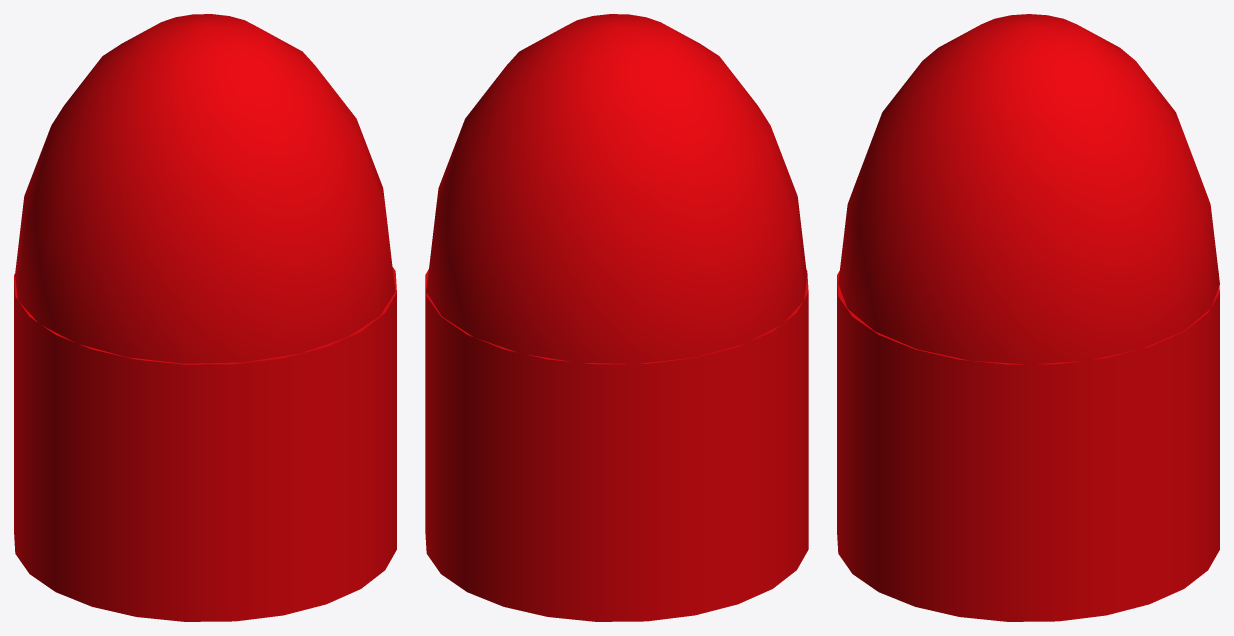
File: redBullet.dae
The picture shows the model from 3 angles, left to right: view 1: azimuth 30°, elevation 25°; view 2: azimuth 150°, elevation 25°; view 3: azimuth 270°, elevation 25°; orthographic projection.
Parts seen in each view (by area): view 1: SimpleSphere02, Component_1; view 2: SimpleSphere02, Component_1; view 3: SimpleSphere02, Component_1.
Boxes of the visible parts, left/top/right/bottom form: SimpleSphere02: left=15, top=14, right=395, bottom=363; Component_1: left=14, top=267, right=396, bottom=621; SimpleSphere02: left=426, top=14, right=806, bottom=366; Component_1: left=425, top=269, right=808, bottom=621; SimpleSphere02: left=838, top=14, right=1219, bottom=368; Component_1: left=837, top=270, right=1219, bottom=621.
Bounding box in the file's own units: 64.14 × 64.14 × 95.11.
